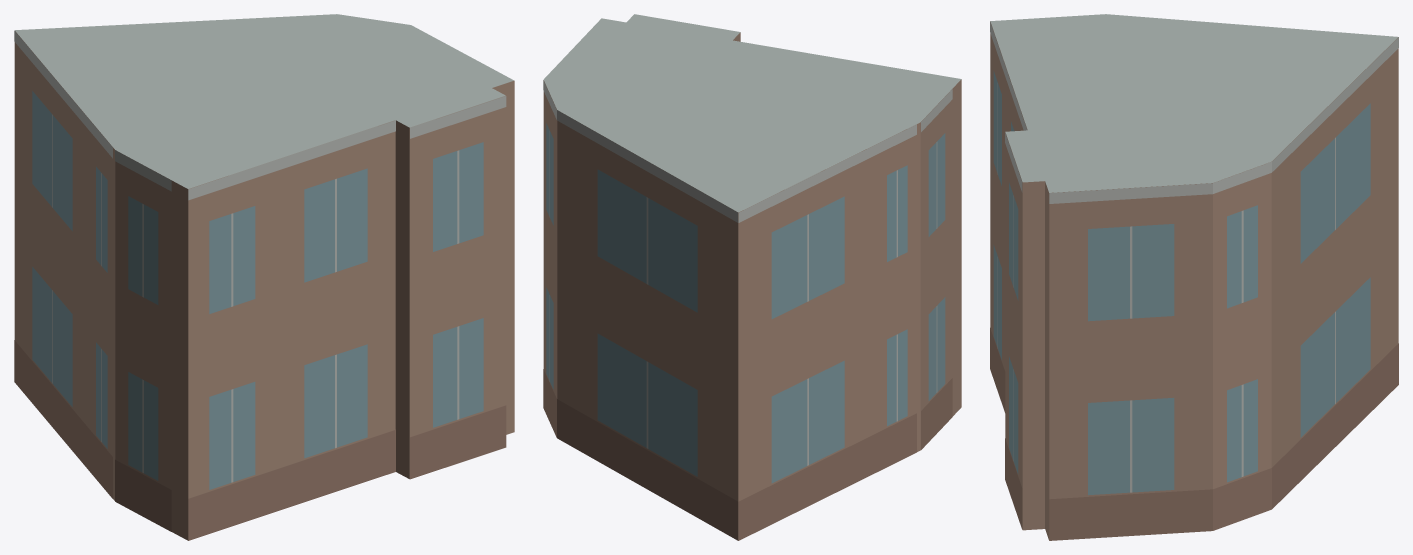
The model's file is survey-upis-32709468.glb.
3 views of the same model, side by side, from view 1: azimuth 30°, elevation 25°; view 2: azimuth 150°, elevation 25°; view 3: azimuth 270°, elevation 25° (orthographic). The views are drawn at different scales.
Parts seen in each view (by area): view 1: survey-upis-32709468.tmp; view 2: survey-upis-32709468.tmp; view 3: survey-upis-32709468.tmp.
Part boxes in pixels (x1,y1,x2,y2): survey-upis-32709468.tmp: [14, 14, 514, 540]; survey-upis-32709468.tmp: [543, 14, 961, 540]; survey-upis-32709468.tmp: [990, 14, 1398, 540].
Bounding box in the file's own units: 8.39 × 7.6 × 8.1.
